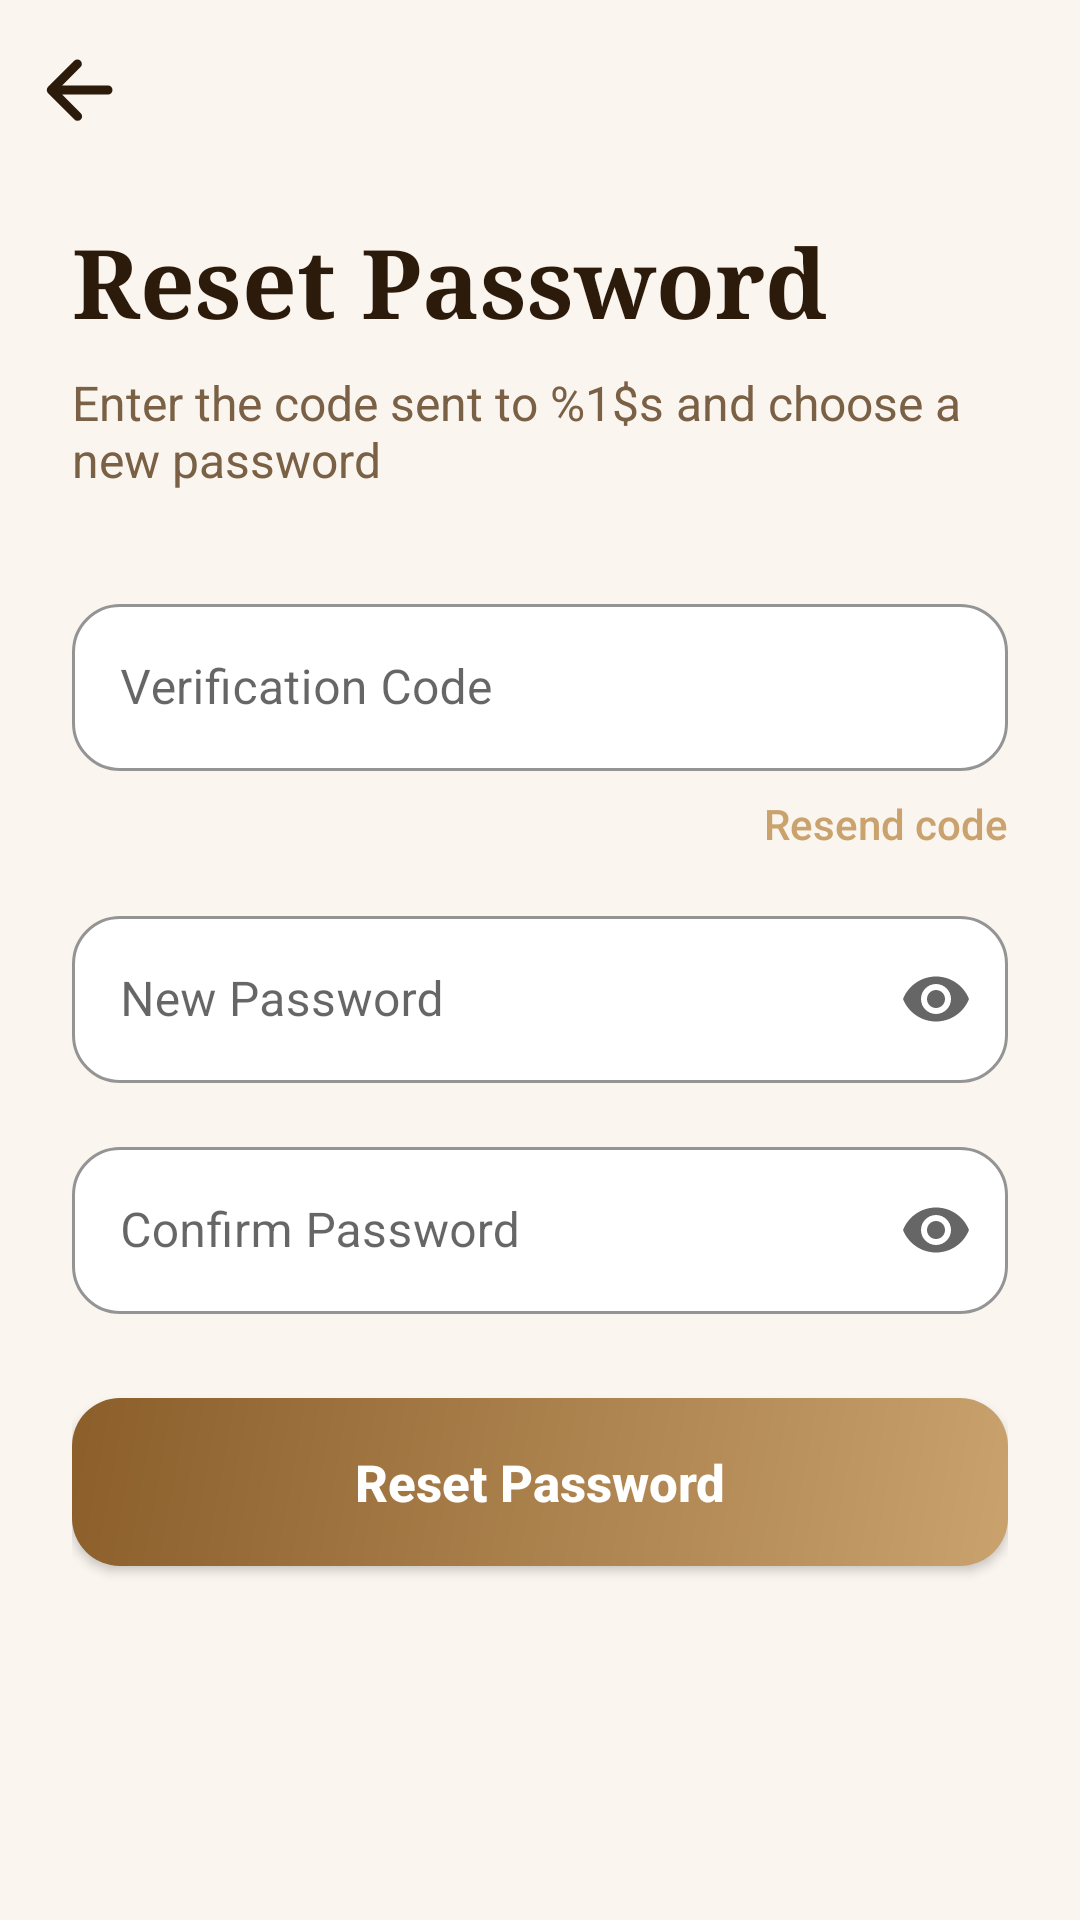

Screen size 1080px×1920px. Icon name, then its center in pixels as (x=x, y=y):
Back to Login: (x=79, y=90)
